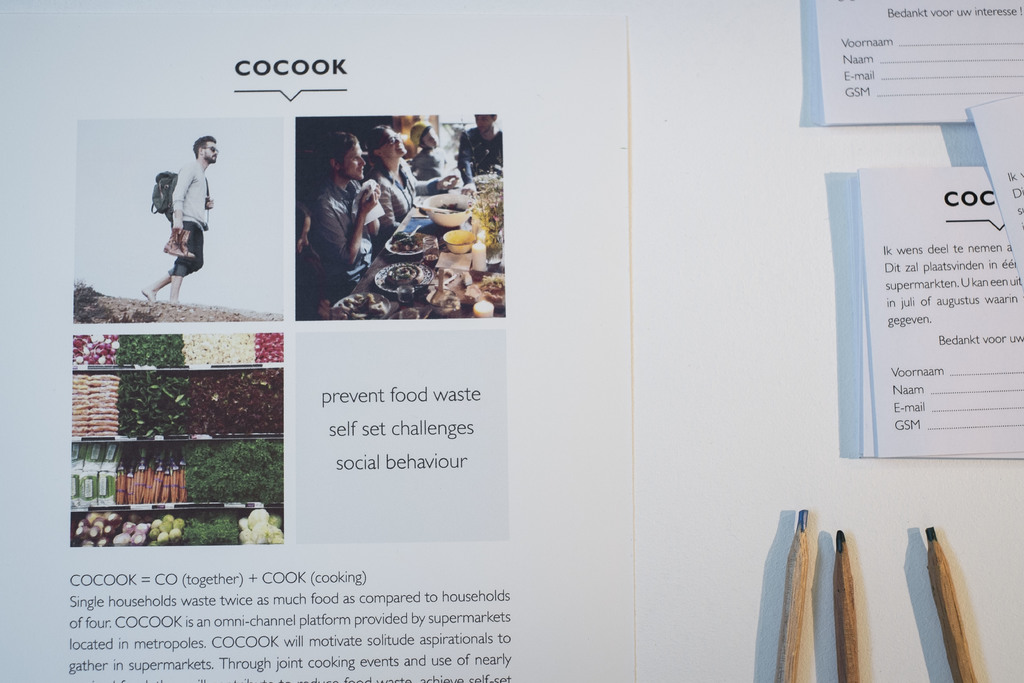person: (138, 133, 221, 305)
